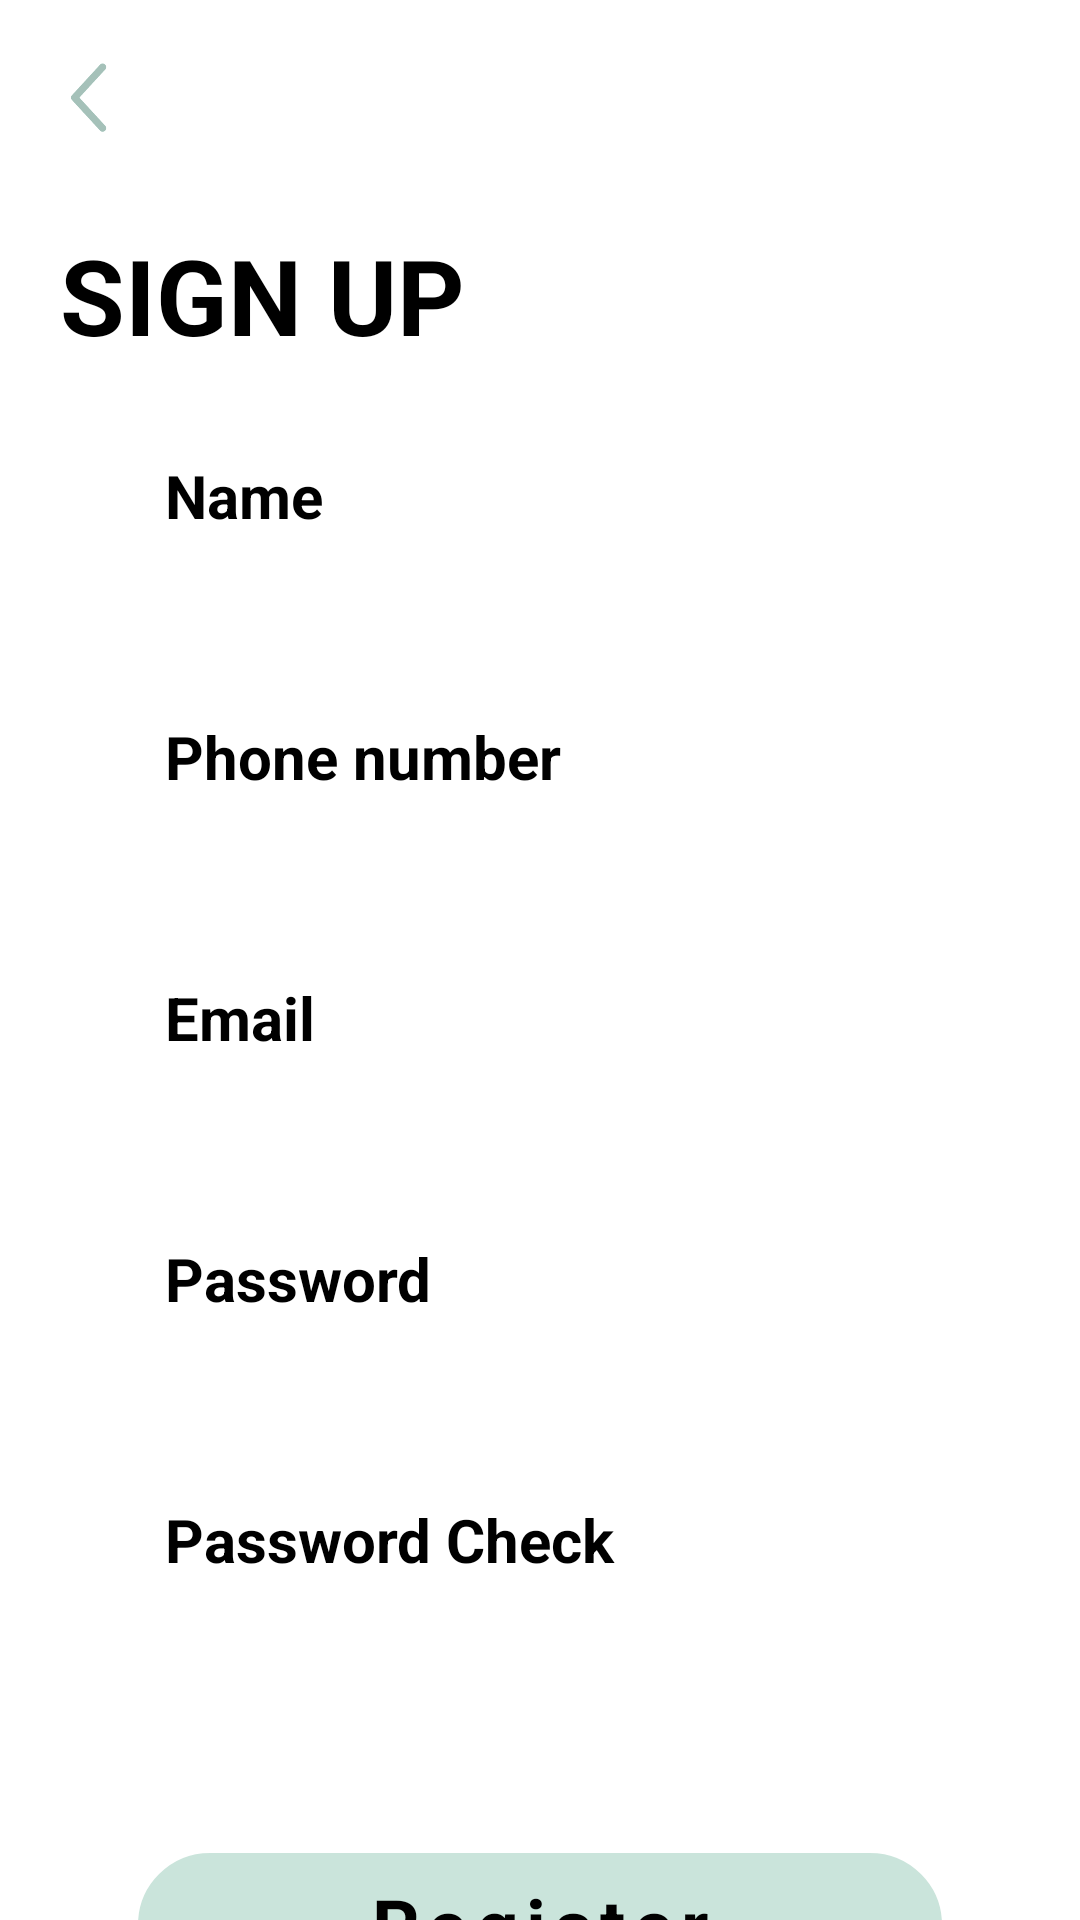

Point at icon controls on the screen. Image size 1080 x 1920, points as point (x, y).
backbutton ver: point (88, 97)
